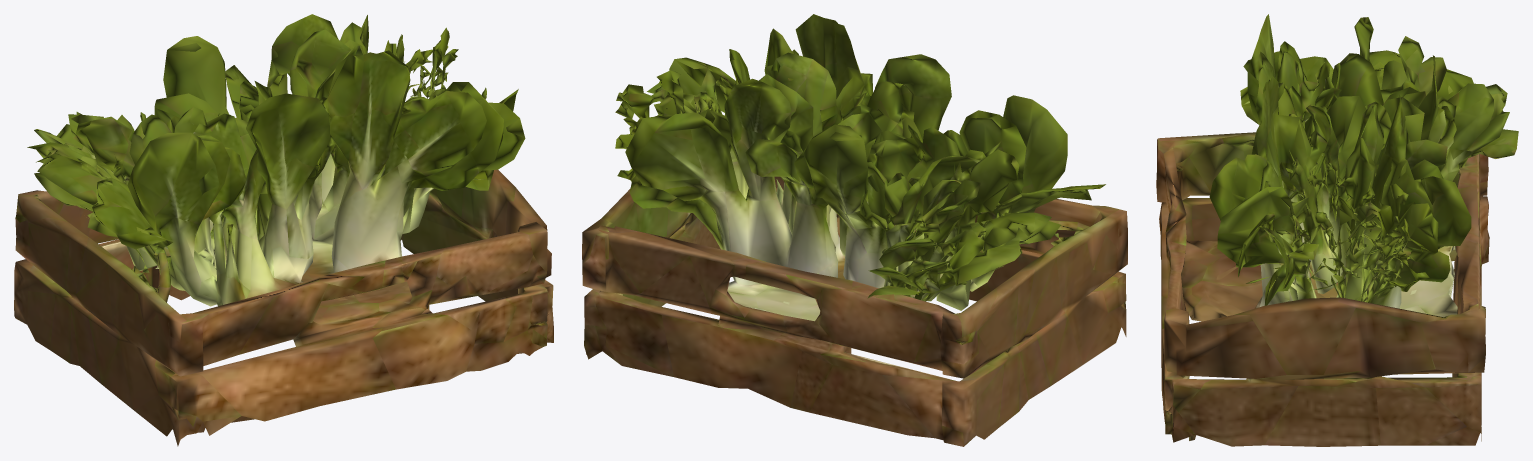
File: d_veg_tray.glb
3 views of the same model, side by side, from view 1: azimuth 30°, elevation 25°; view 2: azimuth 150°, elevation 25°; view 3: azimuth 270°, elevation 25° (orthographic).
Bounding box in the file's own units: 0.6777 × 0.4517 × 0.4986.
Materials: 1 (1 with a texture image).
